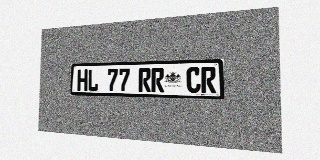7: (118, 68, 130, 92), (107, 69, 118, 92)
C: (186, 67, 201, 93)
H: (77, 69, 88, 91)
L: (88, 69, 98, 91)
R: (201, 67, 216, 93), (138, 68, 151, 92), (151, 68, 164, 92)
